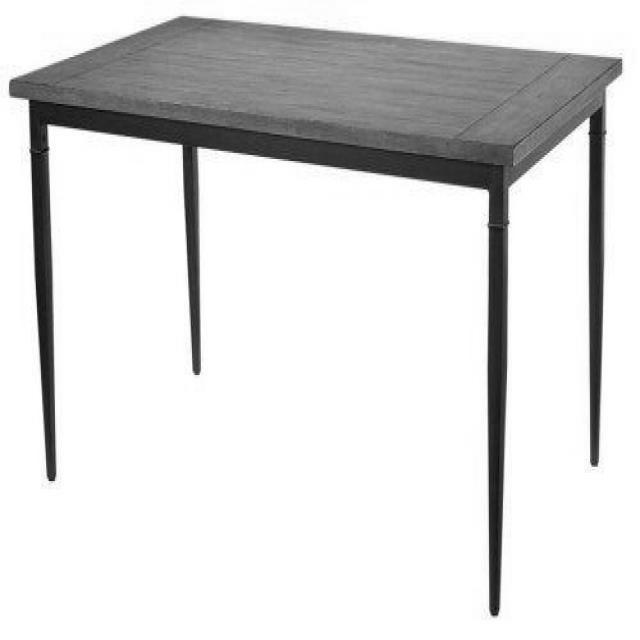table: (8, 14, 624, 614)
